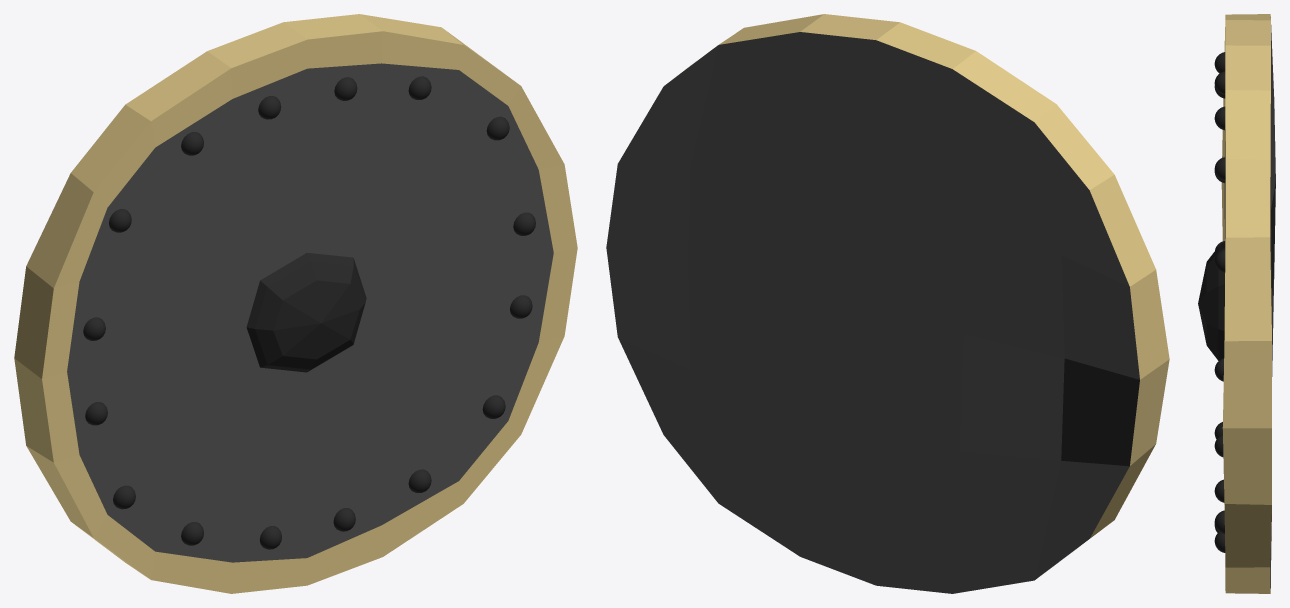
The model's file is Shield_Armor_3_.fbx.
The picture shows the model from 3 angles, left to right: view 1: azimuth 30°, elevation 25°; view 2: azimuth 150°, elevation 25°; view 3: azimuth 270°, elevation 25°; orthographic projection. The views are drawn at different scales.
Visible parts, largest first — view 1: Shield 1.005; view 2: Shield 1.005; view 3: Shield 1.005.
Part boxes in pixels (box(x1,y1,x2,y2)): Shield 1.005: box(14, 14, 577, 593); Shield 1.005: box(606, 14, 1169, 593); Shield 1.005: box(1198, 14, 1275, 593).
Size of the model in its own units: 65.3 by 63.49 by 8.68.
